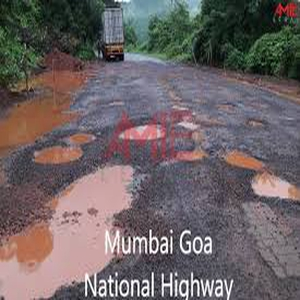pothole: (1, 165, 138, 300), (250, 173, 300, 198), (34, 144, 84, 163), (118, 123, 167, 142), (226, 148, 268, 170), (176, 147, 210, 161), (69, 132, 95, 145), (180, 120, 201, 131), (250, 119, 266, 127)
